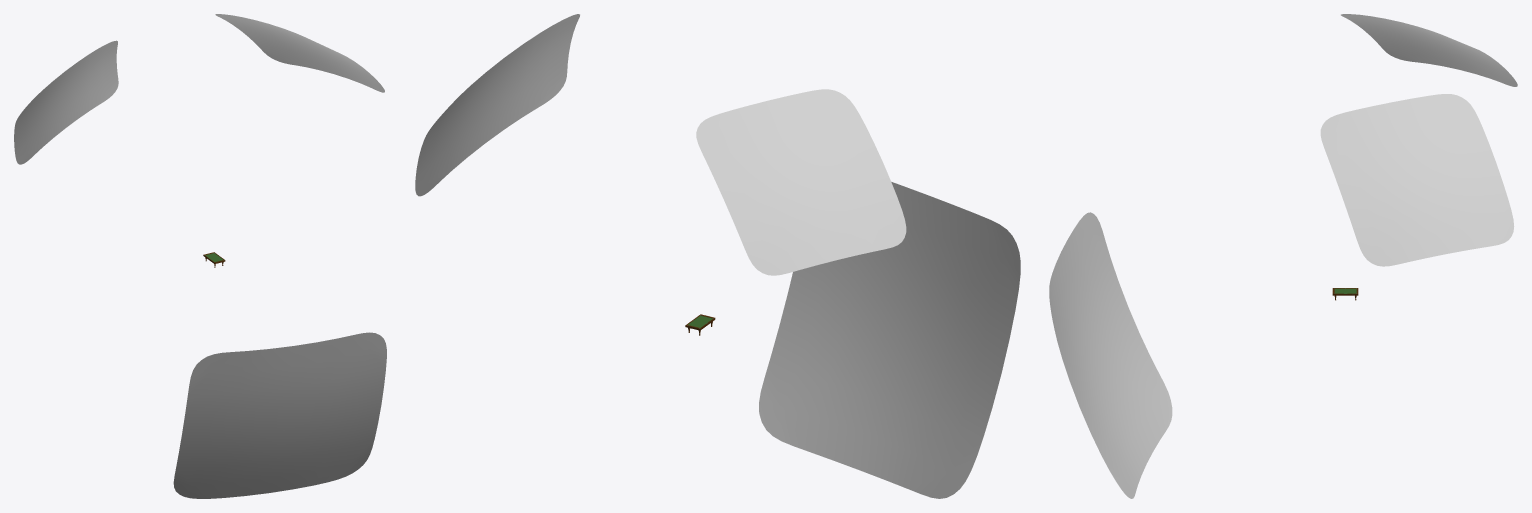
File: billiardtable-TurboSquid.obj
The picture shows the model from 3 angles, left to right: view 1: azimuth 30°, elevation 25°; view 2: azimuth 150°, elevation 25°; view 3: azimuth 270°, elevation 25°; orthographic projection. The views are drawn at different scales.
Visible parts, largest first — view 1: LLS_LIGHT_MESH.000_LLS_LIGHT_MESH, LLS_LIGHT_MESH.002, LLS_LIGHT_MESH.001; view 2: LLS_LIGHT_MESH.000_LLS_LIGHT_MESH, LLS_LIGHT_MESH.002, LLS_LIGHT_MESH.001; view 3: LLS_LIGHT_MESH.001, LLS_LIGHT_MESH.000_LLS_LIGHT_MESH, LLS_LIGHT_MESH.002.
Part boxes in pixels (left/top/right/bottom): LLS_LIGHT_MESH.000_LLS_LIGHT_MESH: left=173, top=332, right=386, bottom=498; LLS_LIGHT_MESH.002: left=14, top=40, right=118, bottom=164; LLS_LIGHT_MESH.001: left=215, top=14, right=384, bottom=92; LLS_LIGHT_MESH.000_LLS_LIGHT_MESH: left=759, top=182, right=1020, bottom=498; LLS_LIGHT_MESH.002: left=696, top=89, right=906, bottom=275; LLS_LIGHT_MESH.001: left=415, top=14, right=579, bottom=196; LLS_LIGHT_MESH.001: left=1320, top=94, right=1514, bottom=266; LLS_LIGHT_MESH.000_LLS_LIGHT_MESH: left=1049, top=212, right=1172, bottom=498; LLS_LIGHT_MESH.002: left=1341, top=14, right=1517, bottom=86.
Size of the model in its own units: 53.02 by 52.44 by 52.94.
Materials: 4 (1 with a texture image).
